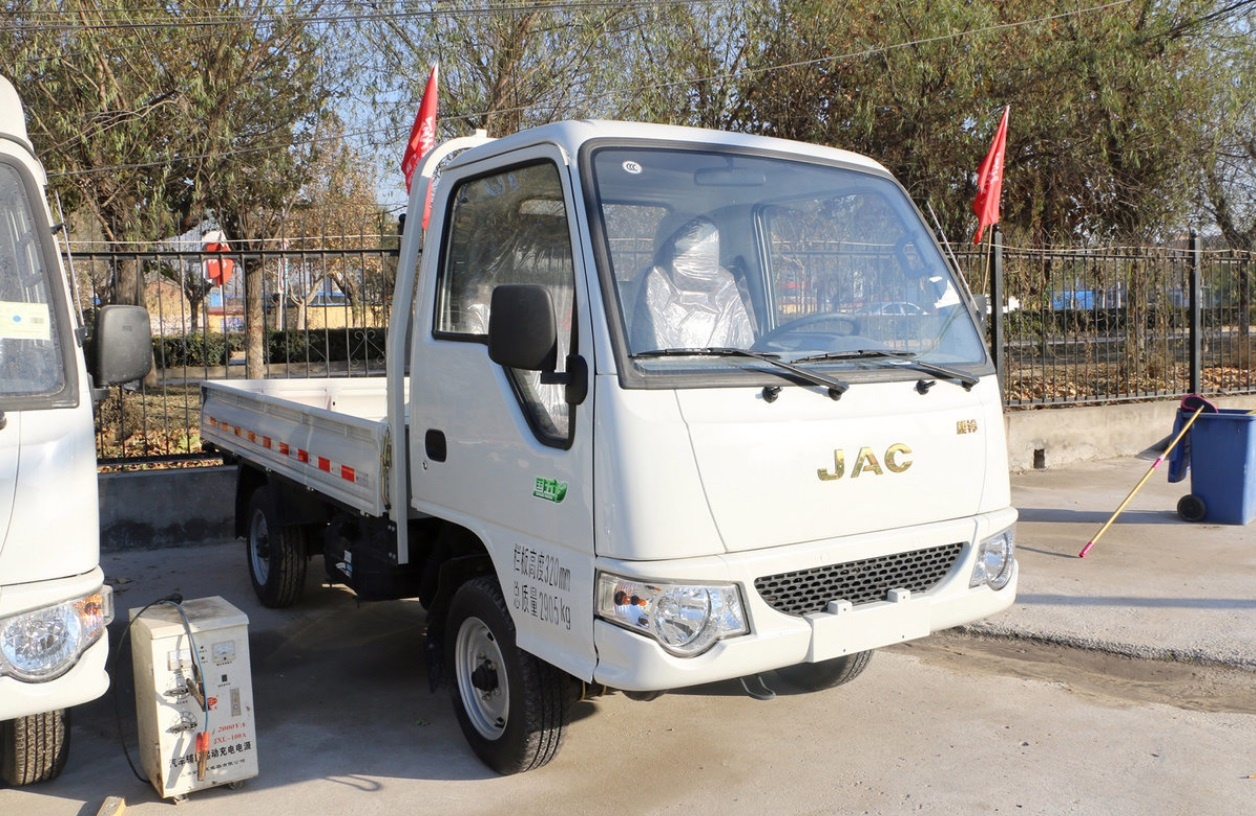truck: (194, 119, 1027, 791)
